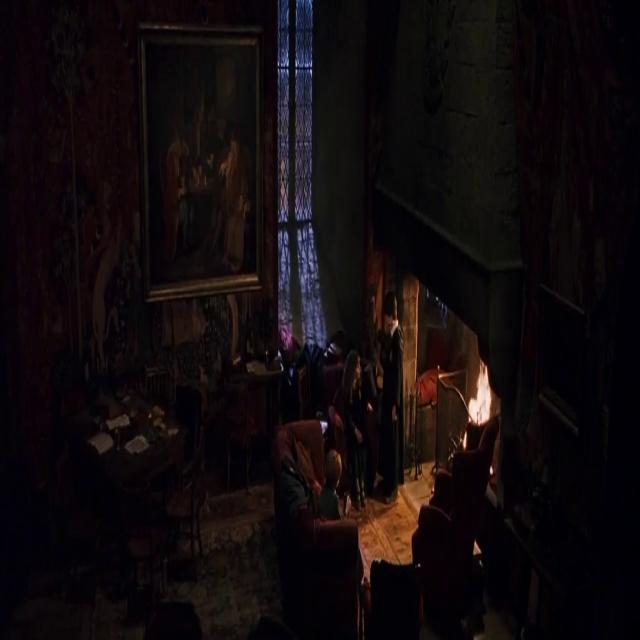People: (378, 282, 411, 497), (336, 322, 375, 462), (315, 426, 353, 529)
Table: (74, 356, 191, 575)
chair: (267, 411, 362, 603), (428, 390, 513, 528)
